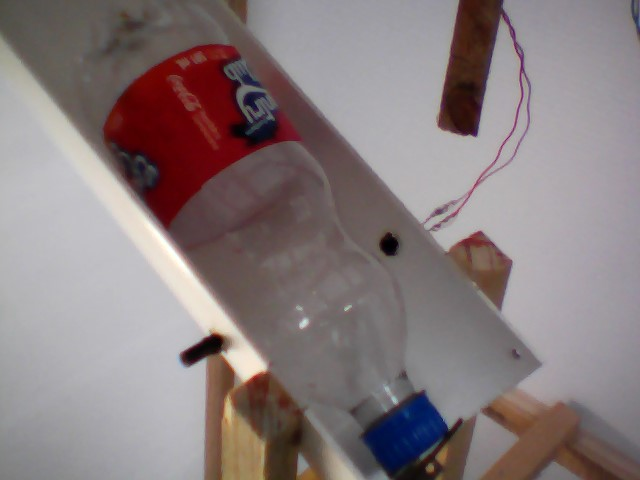plastico: (58, 1, 451, 472)
